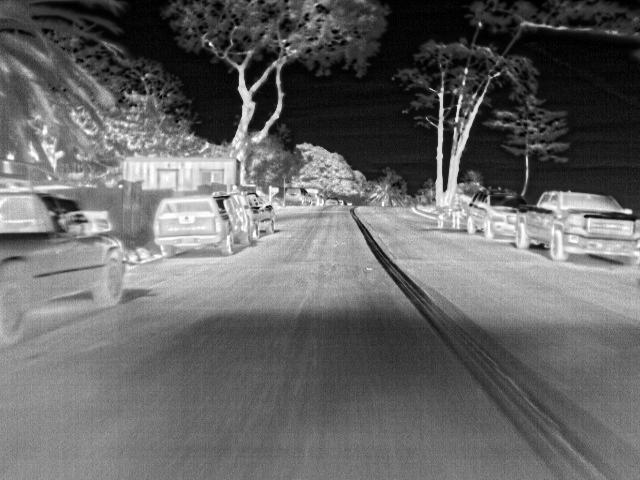car: (1, 190, 127, 343), (514, 188, 639, 264), (154, 195, 236, 259), (465, 188, 528, 239), (231, 194, 258, 245), (246, 195, 275, 233)
dog: (435, 205, 450, 231)
person: (451, 191, 466, 232)
